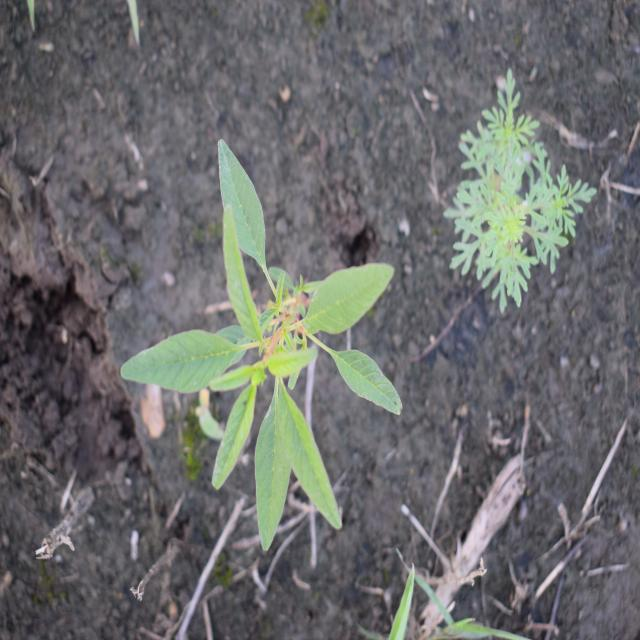Ragweed: (448, 65, 598, 315)
Waterhemp: (120, 136, 404, 554)
